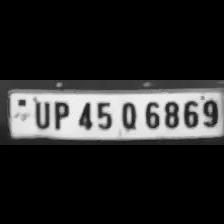4: (72, 97, 94, 129)
5: (92, 97, 114, 130)
6: (140, 97, 162, 129), (180, 96, 200, 128)
8: (162, 96, 180, 128)
9: (199, 96, 221, 128)
P: (49, 97, 71, 129)
Q: (117, 97, 139, 129)
U: (30, 96, 52, 128)
